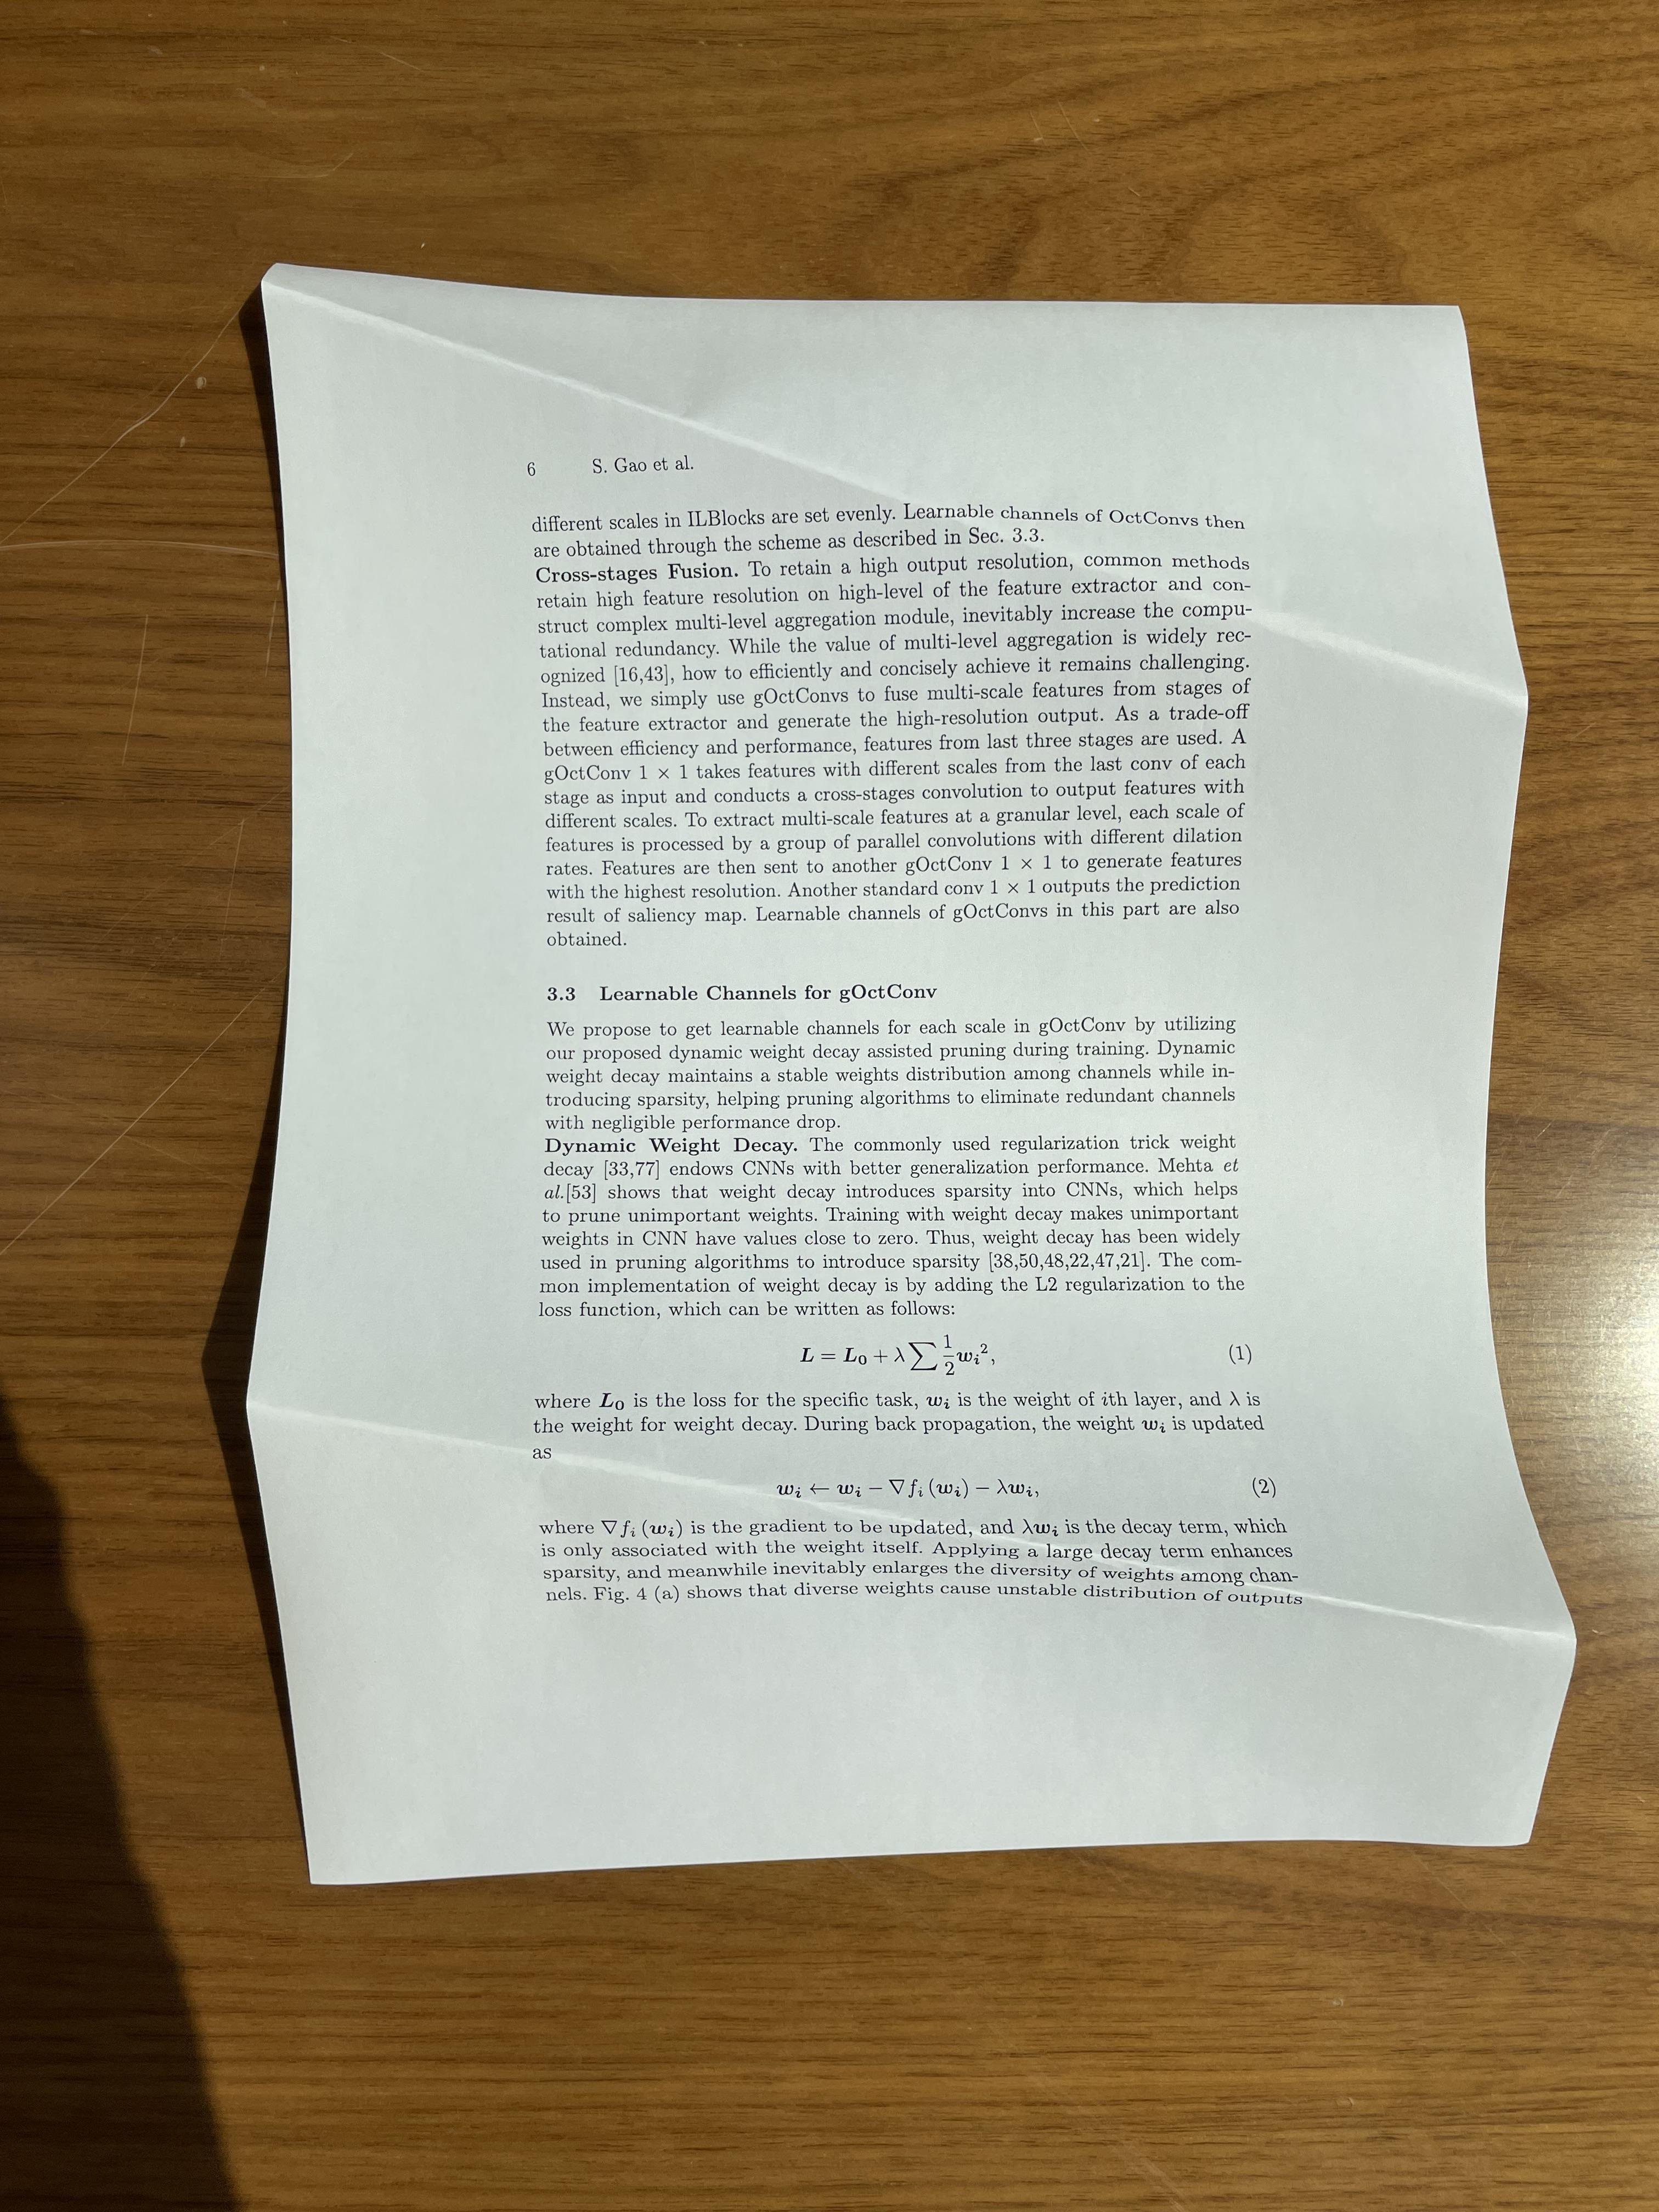paper: (68, 106, 1643, 1898)
